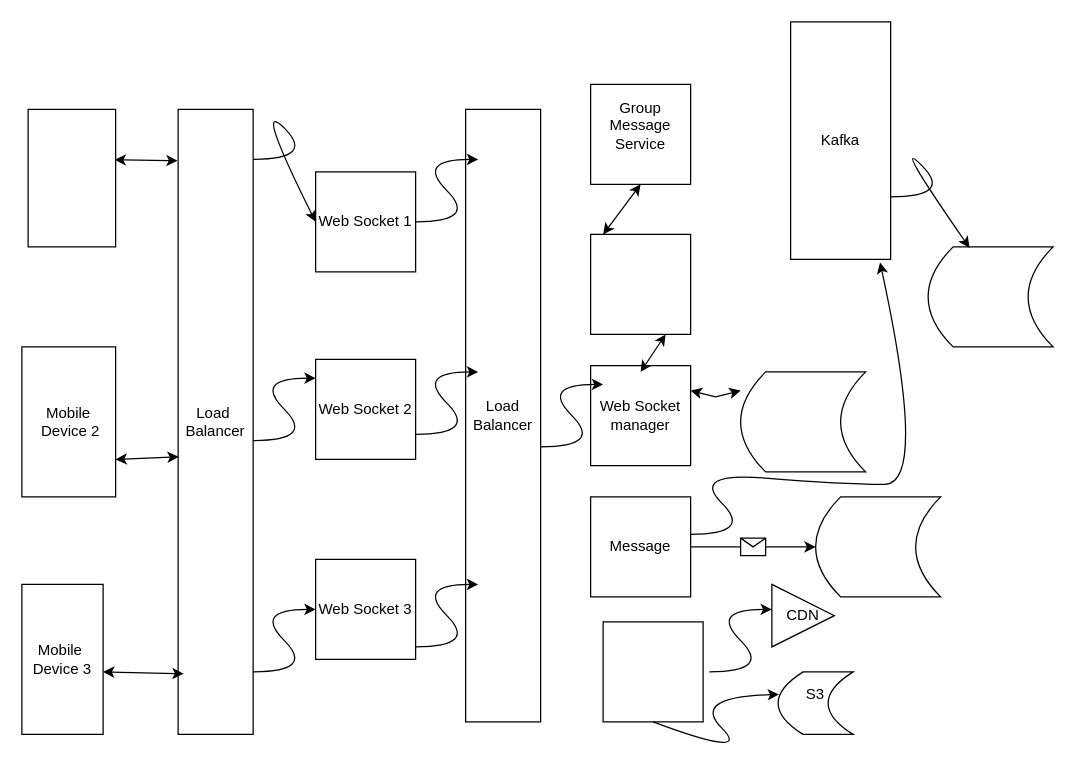
Image size: 1075x765. Some labels were removed from this diagram. The centre of each missing label's shape, as x and y in pixels:
Assit Management: the point at 652,671
Cassandra: the point at 877,546
Group Message handler: the point at 640,283
hadoop: the point at 990,296
Mobile Device 1: the point at 71,177
Redis Cache: the point at 802,421
